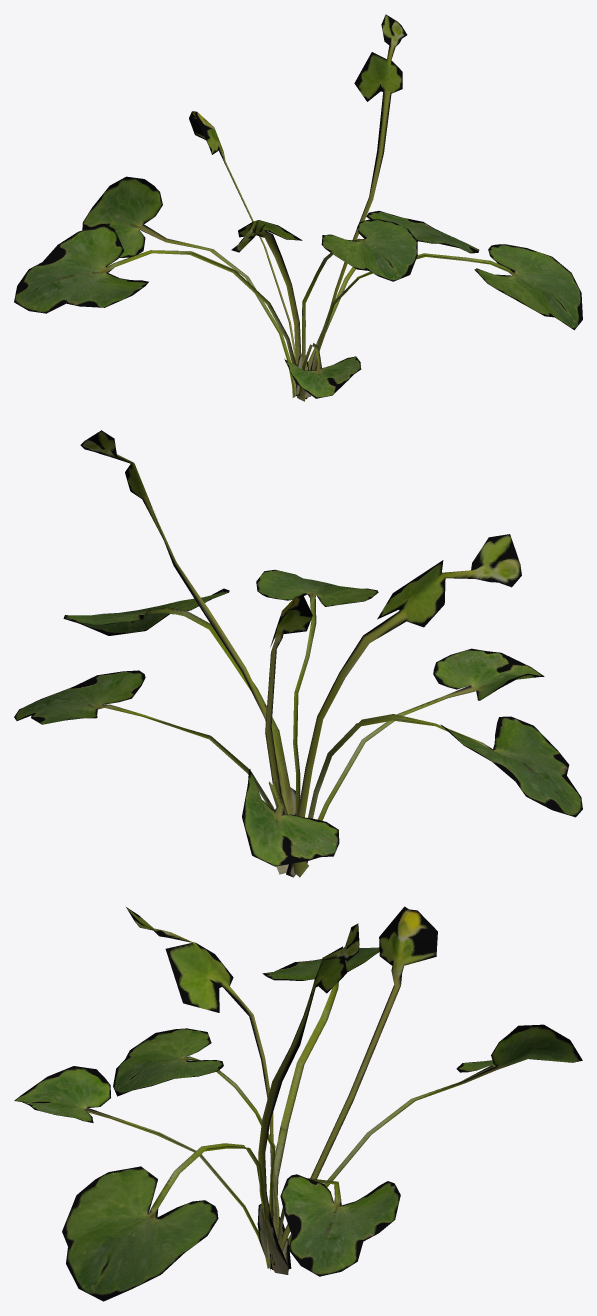
Rendered from celandine_01_v1.glb.
The picture shows the model from 3 angles, top to bottom: view 1: azimuth 30°, elevation 25°; view 2: azimuth 150°, elevation 25°; view 3: azimuth 270°, elevation 25°; orthographic projection. The views are drawn at different scales.
Parts seen in each view (by area): view 1: lod0; view 2: lod0; view 3: lod0.
Part boxes in pixels (x1,y1,x2,y2): lod0: (14, 14, 582, 401); lod0: (14, 430, 582, 877); lod0: (14, 906, 582, 1301).
Size of what is drawn, in the model's own units: 0.2757 by 0.1859 by 0.2282.
Materials: 1 (1 with a texture image).
